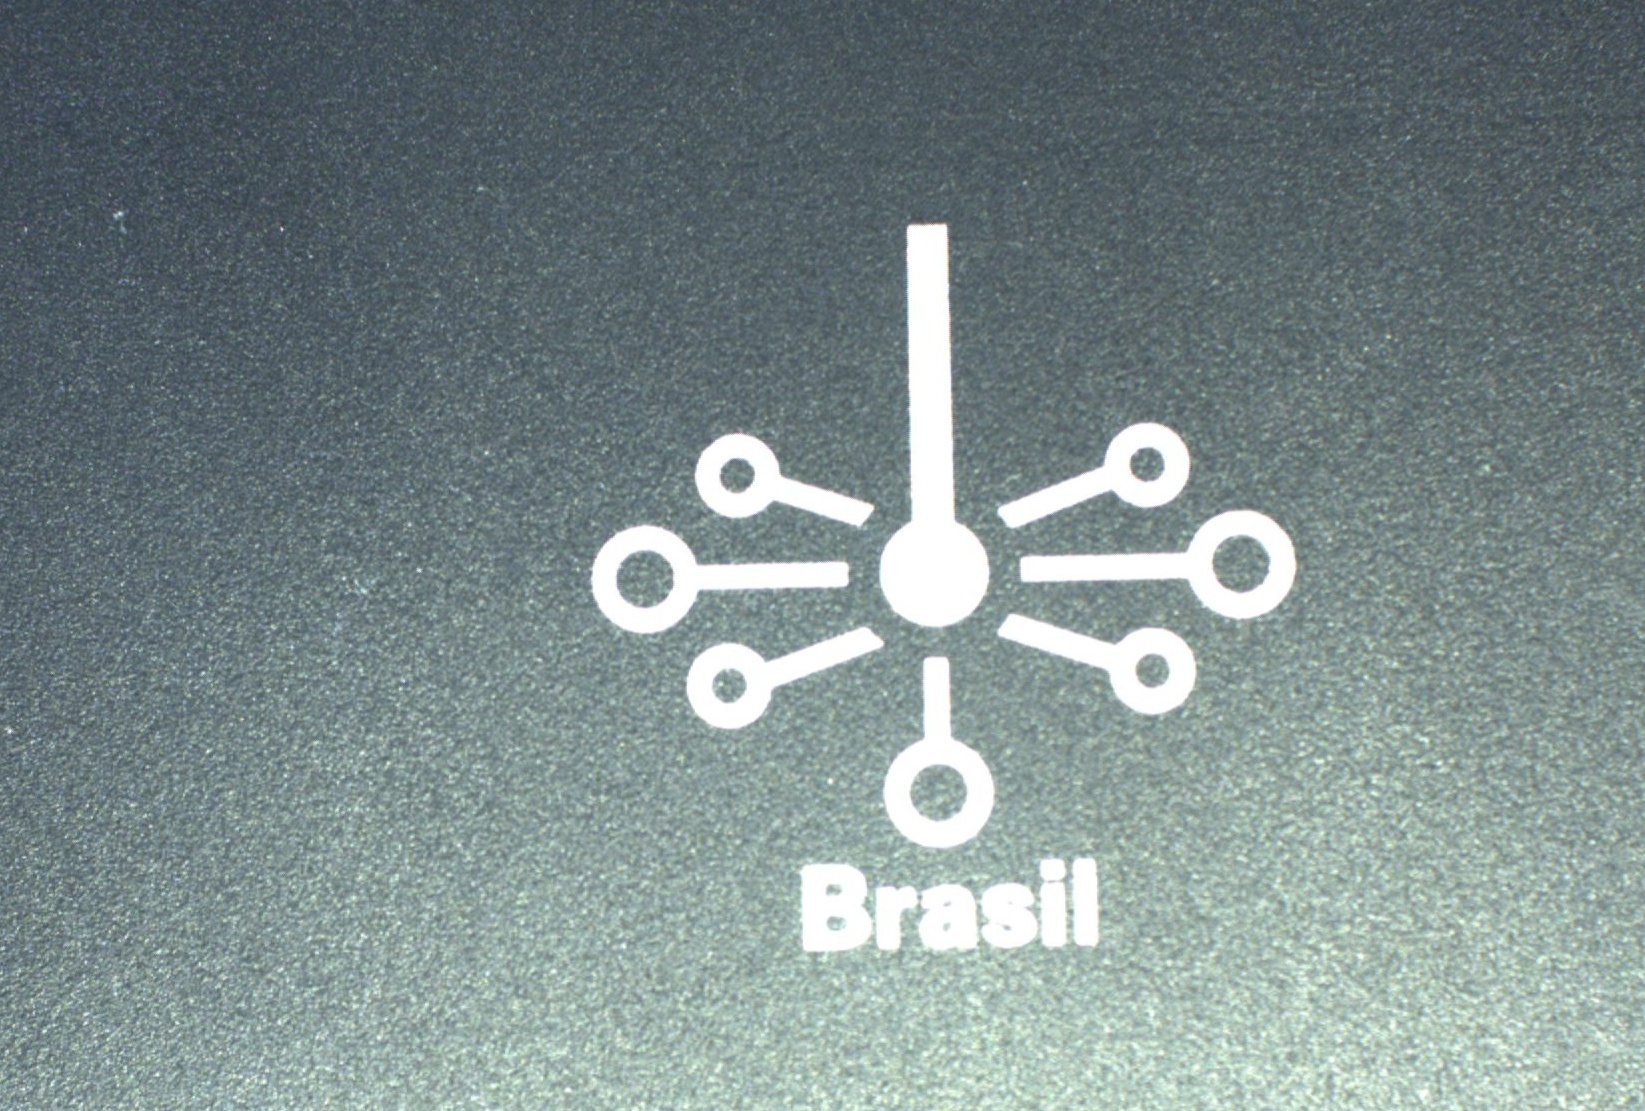BO_Brsail: (573, 210, 1313, 976)
